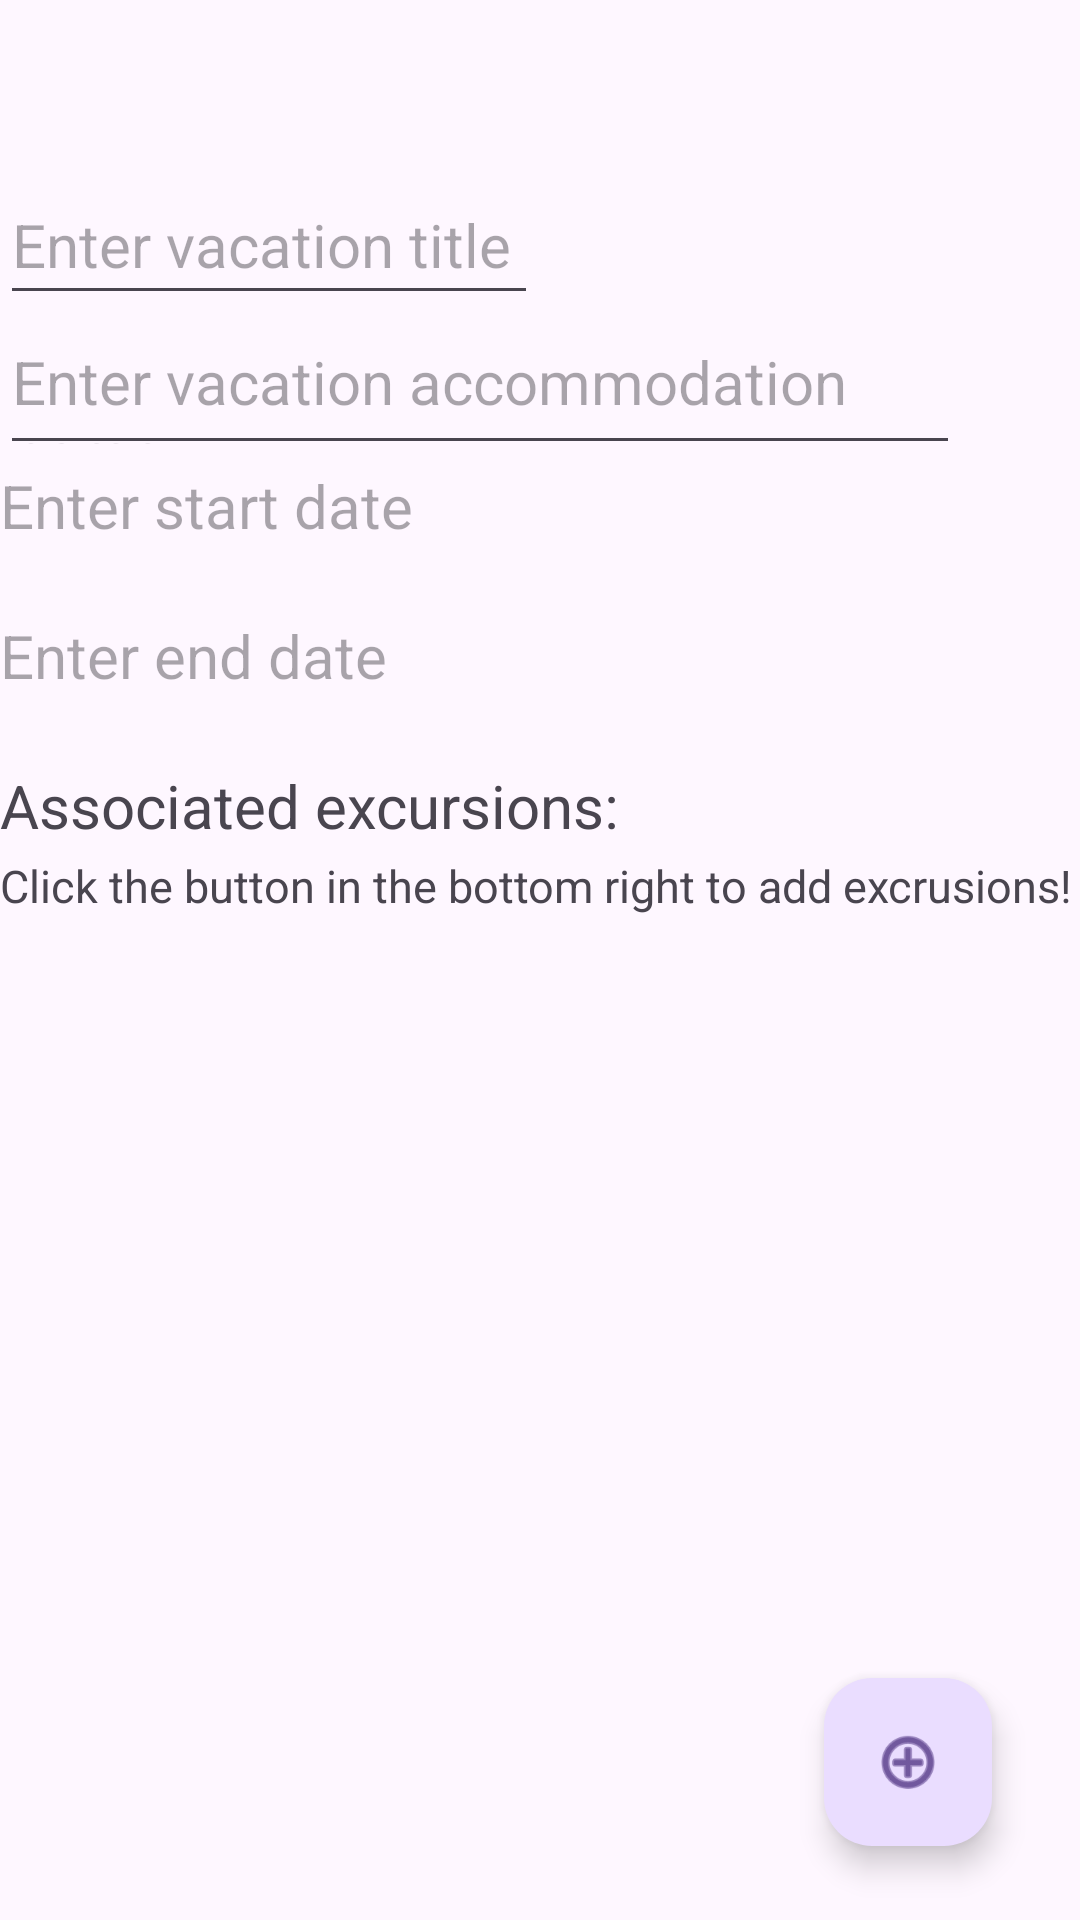

Icon click points for this 1080px x 1920px phone screenshot, format point (x, y):
Button to move to add vacation screen: point (908, 1762)
